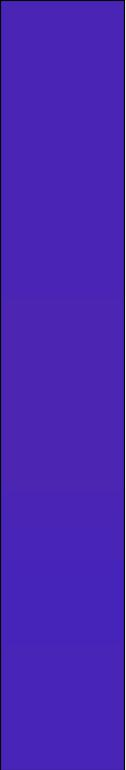safe: (9, 9, 116, 760)
